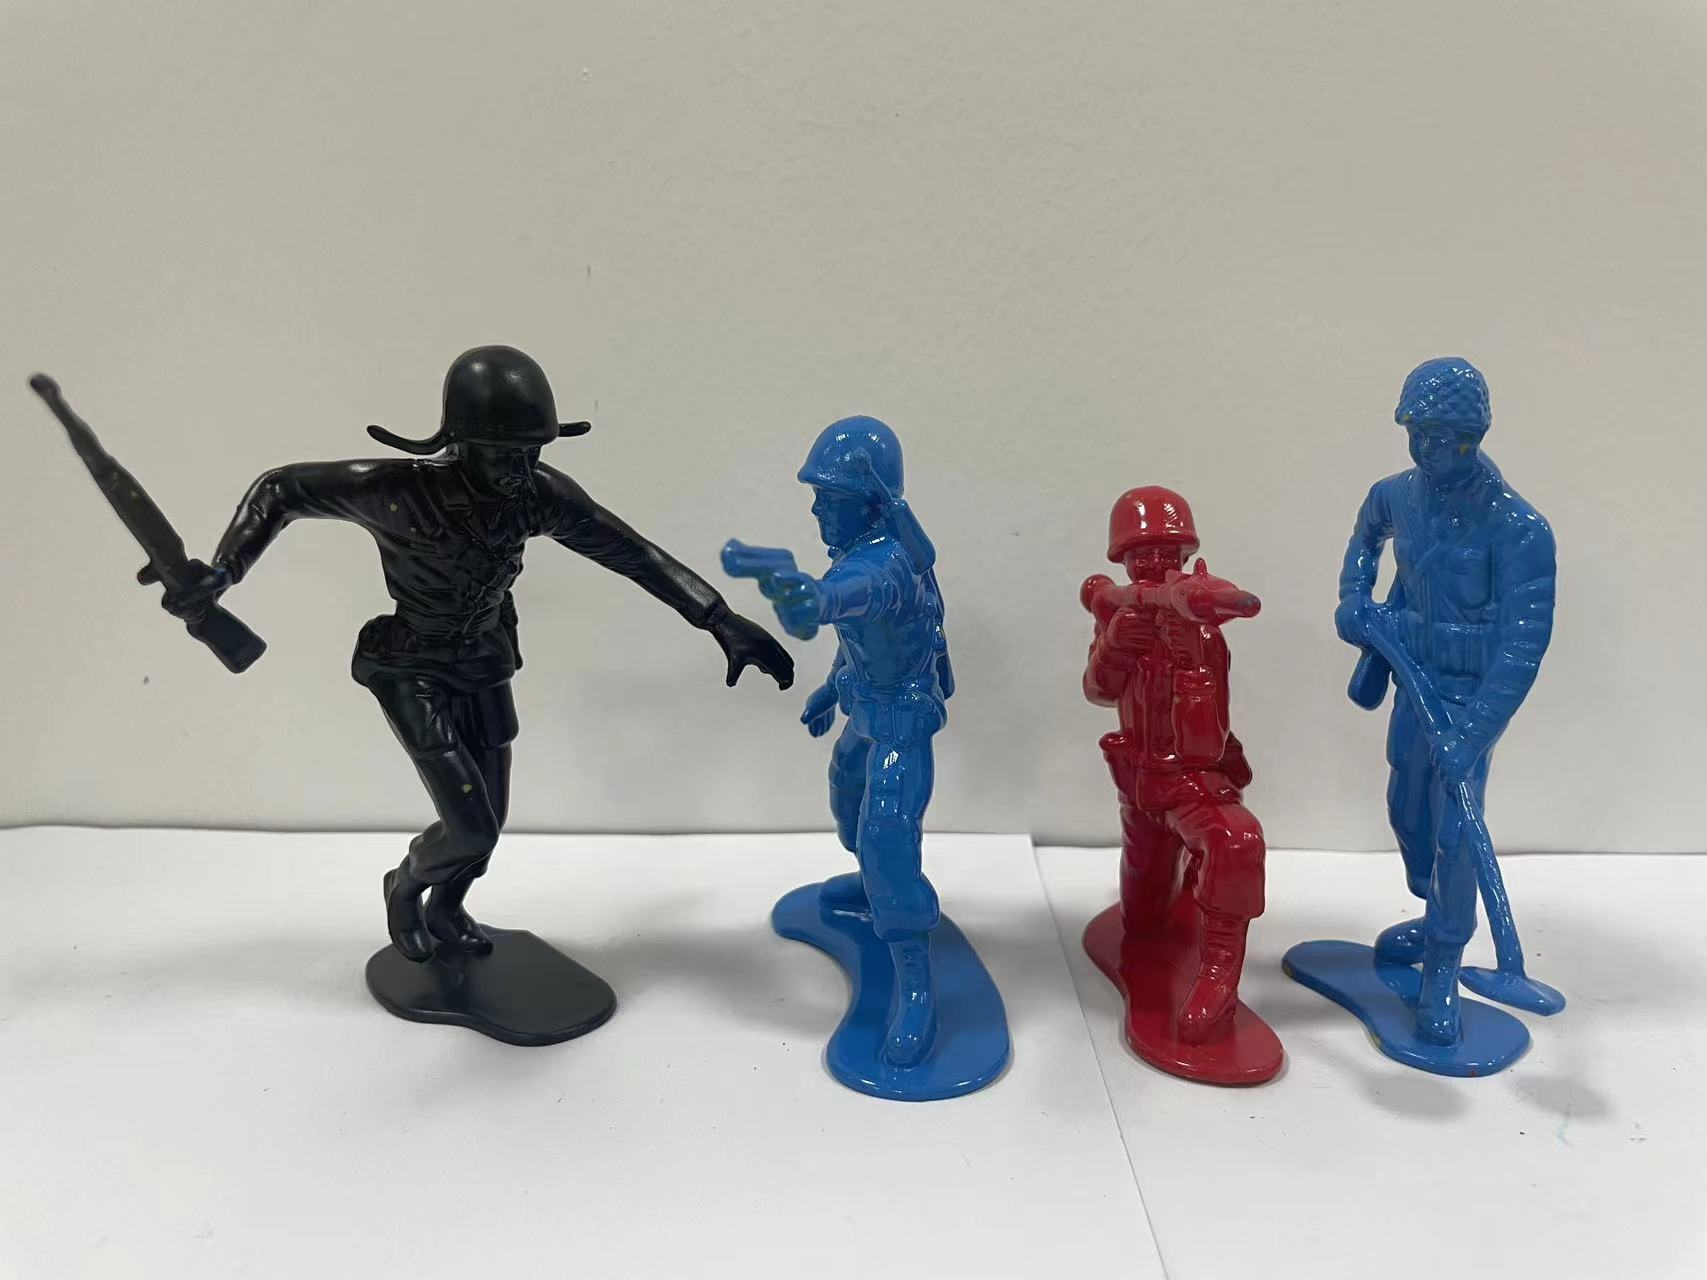black: (9, 277, 793, 1092)
blue: (1290, 325, 1641, 1113), (724, 411, 1047, 1125)
red: (1065, 467, 1305, 1104)
